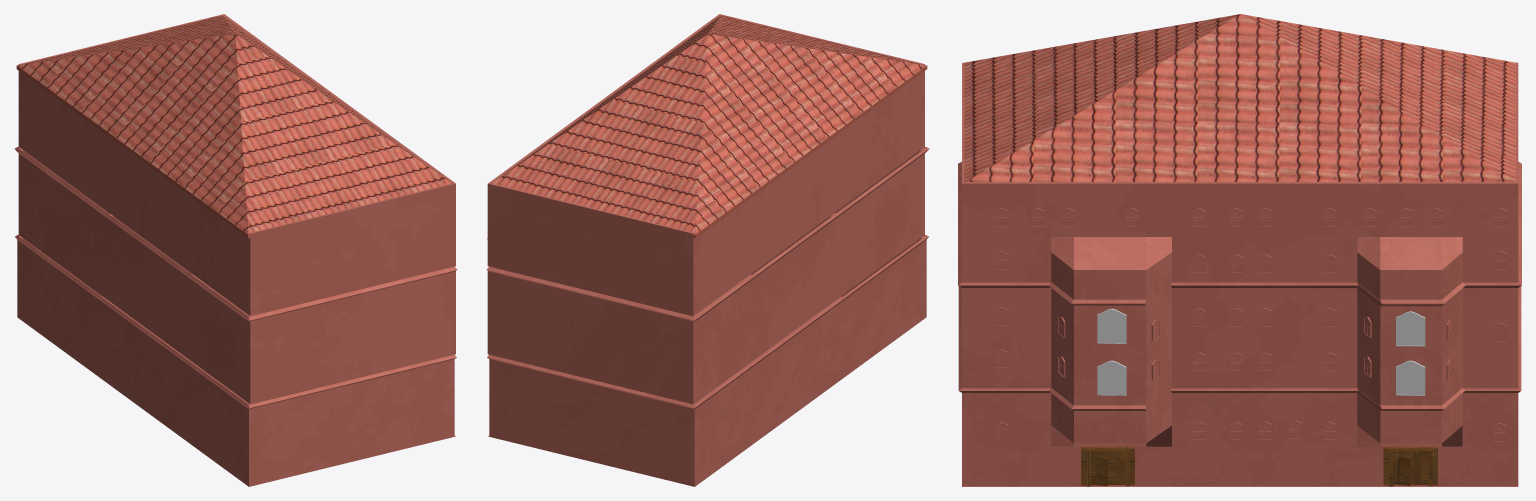
The model's file is bigVallhallaHouse1.fbx.
3 renders of one model, left to right at view 1: azimuth 30°, elevation 25°; view 2: azimuth 150°, elevation 25°; view 3: azimuth 270°, elevation 25°, orthographic. The views are drawn at different scales.
Visible parts, largest first — view 1: Cube, Cube.112, Cube.031; view 2: Cube, Cube.112, Cube.031; view 3: Cube.031, Cube.112, Cube, Cube.032, Cube.108, Cube.110, Cube.109, Cube.044, Cube.030.
Boxes of the visible parts, left/top/right/bottom form: Cube: left=18, top=14, right=455, bottom=436; Cube.112: left=16, top=15, right=451, bottom=238; Cube.031: left=14, top=147, right=457, bottom=486; Cube: left=487, top=14, right=924, bottom=436; Cube.112: left=492, top=15, right=927, bottom=238; Cube.031: left=486, top=147, right=929, bottom=486; Cube.031: left=958, top=161, right=1521, bottom=486; Cube.112: left=963, top=14, right=1517, bottom=181; Cube: left=962, top=63, right=1518, bottom=486; Cube.032: left=1097, top=362, right=1125, bottom=395; Cube.108: left=1097, top=310, right=1125, bottom=343; Cube.110: left=1396, top=313, right=1424, bottom=345; Cube.109: left=1396, top=362, right=1424, bottom=394; Cube.044: left=1095, top=457, right=1118, bottom=486; Cube.030: left=1398, top=457, right=1421, bottom=485.
Bounding box in the file's own units: 39.02 × 53.15 × 65.95.
